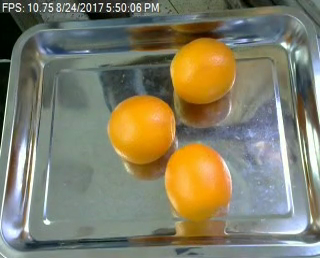Orange: (165, 143, 232, 221), (108, 94, 176, 164), (170, 38, 237, 104)
